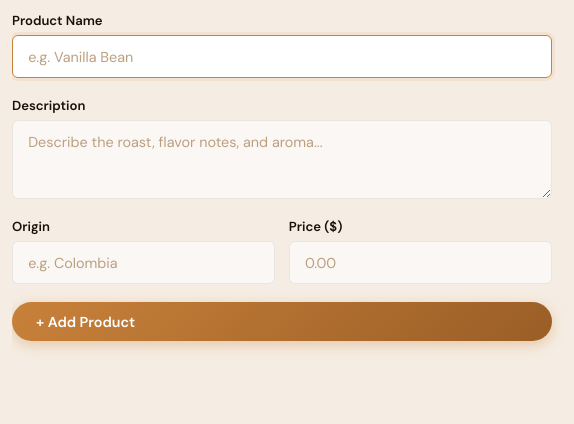
Scenario: ProductForm › shows error for invalid price (zero)
Type "X" into the field labelled "Product Name" at (282, 57), box [12, 35, 552, 78]
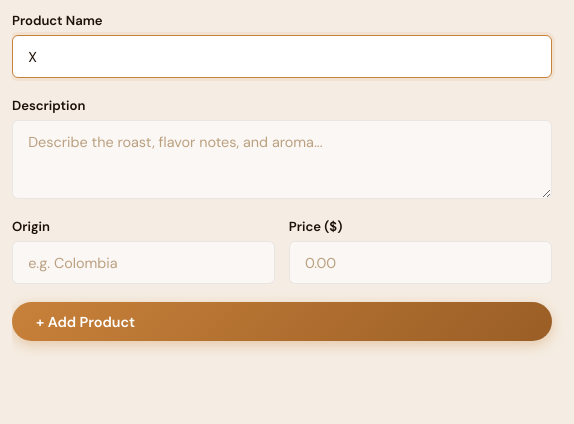
Type "X" into the text box labelled "Description" at (282, 160), box [12, 120, 552, 199]
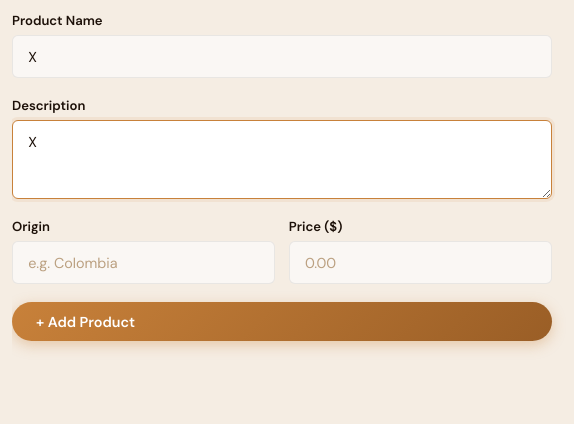
Type "X" into the field labelled "Origin" at (144, 262), box [12, 241, 275, 284]
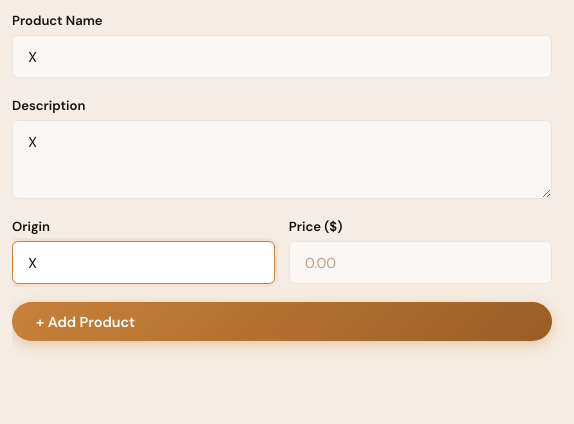
Type "0" into the number field labelled "Price ($)" at (420, 262), box [289, 241, 552, 284]
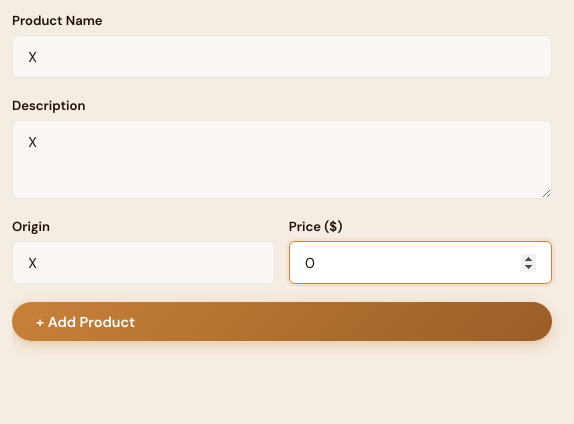
Click the button "+ Add Product" at (85, 322), box [12, 302, 552, 341]
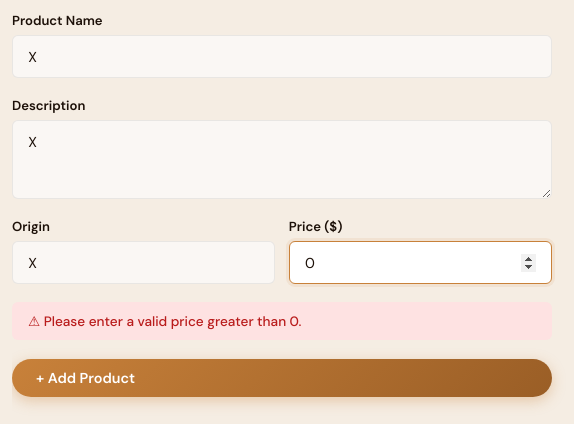
Expected: the message shows "valid price", [44, 313, 301, 330]
